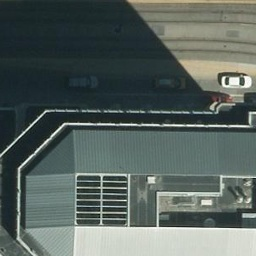car: (200, 93, 235, 116), (154, 70, 188, 91), (66, 74, 97, 91), (221, 73, 250, 89)
